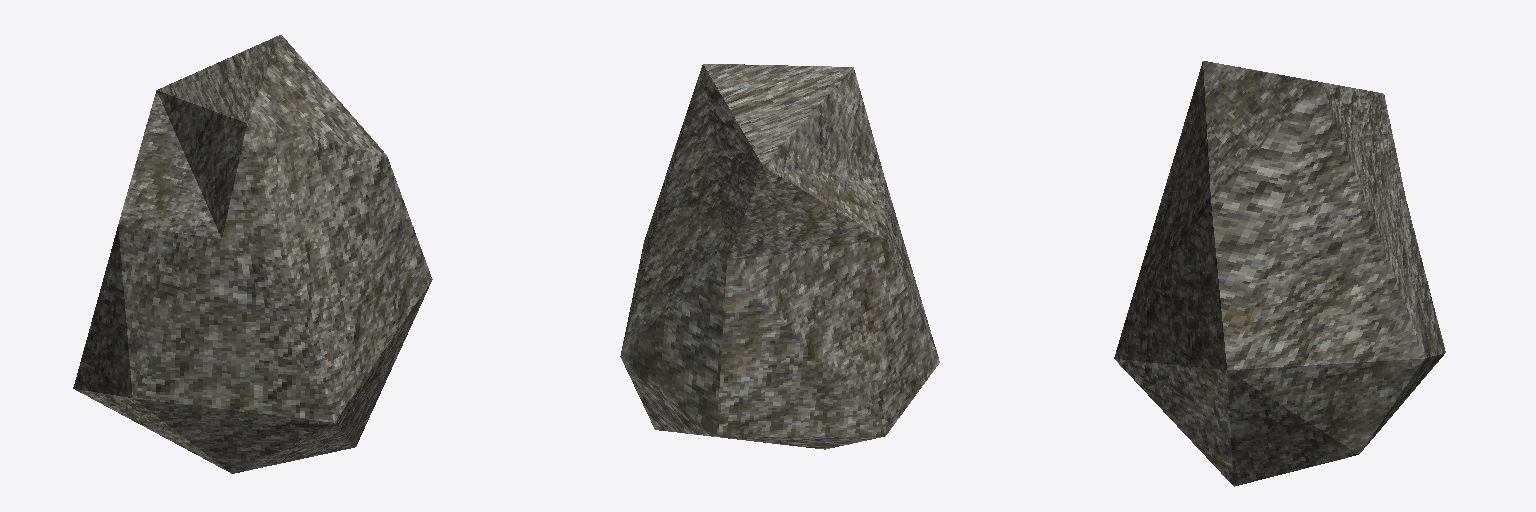
The picture shows the model from 3 angles: view 1: azimuth 30°, elevation 25°; view 2: azimuth 150°, elevation 25°; view 3: azimuth 270°, elevation 25°; orthographic projection.
Parts seen in each view (by area): view 1: eggy8; view 2: eggy8; view 3: eggy8.
Boxes of the visible parts, box(x1,y1,x2,y2) form: eggy8: box(73, 35, 432, 473); eggy8: box(620, 64, 939, 449); eggy8: box(1114, 61, 1445, 486).
Size of the model in its own units: 2.56 by 3.19 by 2.45.
1 materials, 1 textured.